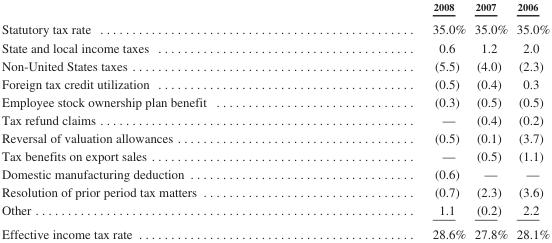table: (0, 0, 549, 240)
table column: (0, 0, 318, 240), (318, 0, 469, 240), (469, 0, 511, 240), (511, 0, 549, 240)
table column header: (0, 0, 549, 17)
table row: (0, 17, 549, 38), (0, 200, 549, 221), (0, 221, 549, 240), (0, 38, 549, 56), (0, 56, 549, 74), (0, 74, 549, 92), (0, 92, 549, 110), (0, 110, 549, 128), (0, 128, 549, 146), (0, 146, 549, 164), (0, 164, 549, 182), (0, 182, 549, 200), (0, 0, 549, 17)
